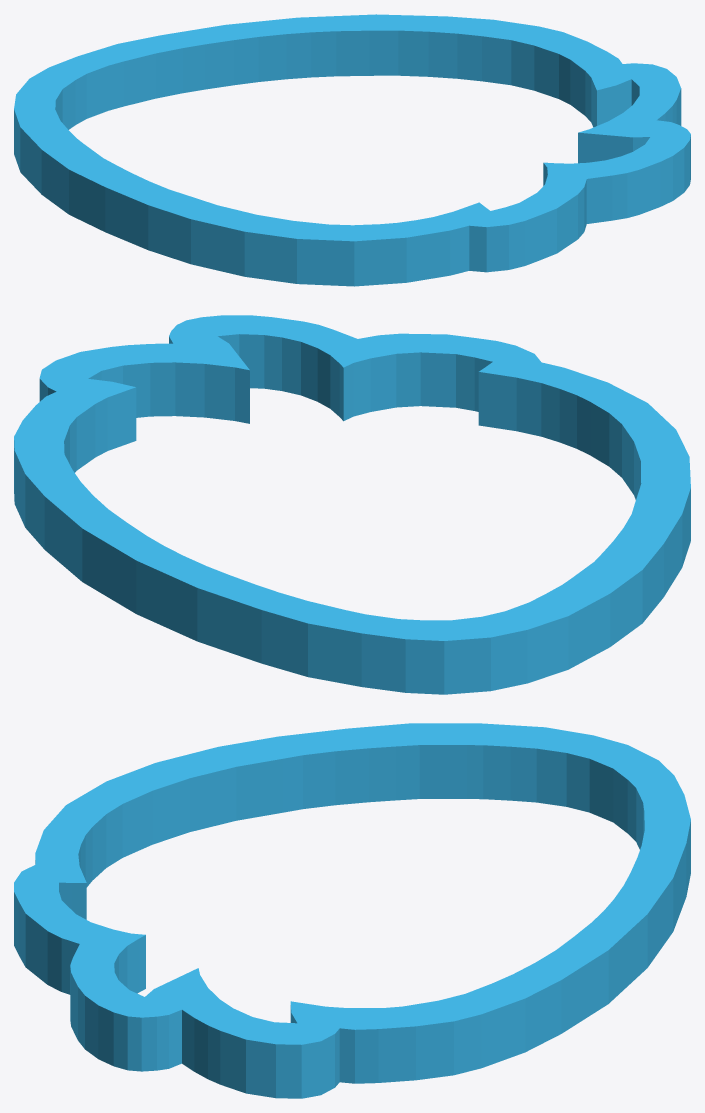
The model's file is Gold_Bonus_1.FBX.
3 renders of one model, top to bottom at view 1: azimuth 30°, elevation 25°; view 2: azimuth 150°, elevation 25°; view 3: azimuth 270°, elevation 25°, orthographic. The views are drawn at different scales.
Parts seen in each view (by area): view 1: Object011; view 2: Object011; view 3: Object011.
Part boxes in pixels (left/top/right/bottom): Object011: left=14, top=14, right=690, bottom=286; Object011: left=14, top=315, right=690, bottom=694; Object011: left=14, top=723, right=690, bottom=1098.
Bounding box in the file's own units: 3.84 × 0.3 × 3.41.
